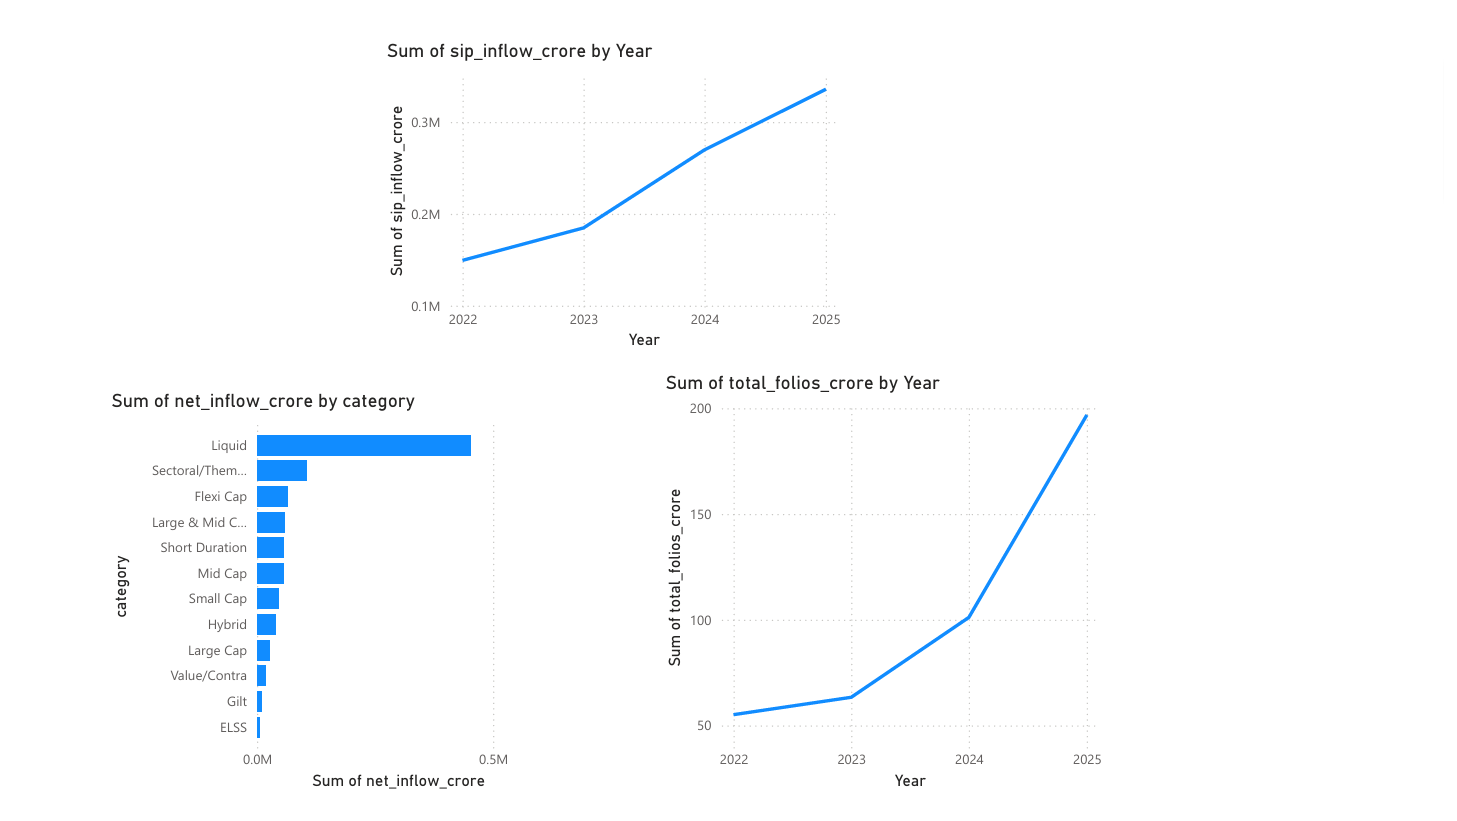

Layout of this report page (visuals, bound fields, positions):
{"tool":"powerbi","page":{"name":"SIP and Market Trends","canvas":[1280,720],"ordinal":3},"visuals":[{"type":"lineChart","fields":{"Category":["04_monthly_sip_inflows.month.Variation.Date Hierarchy.Year","04_monthly_sip_inflows.month.Variation.Date Hierarchy.Quarter","04_monthly_sip_inflows.month.Variation.Date Hierarchy.Month","04_monthly_sip_inflows.month.Variation.Date Hierarchy.Day"],"Y":["Sum(04_monthly_sip_inflows.sip_inflow_crore)"]},"box":[324,16.7,417.9,283.2],"z":0},{"type":"clusteredBarChart","fields":{"Category":["05_category_inflows.category"],"Y":["Sum(05_category_inflows.net_inflow_crore)"]},"box":[75.7,331.6,410.3,364.9],"z":1},{"type":"lineChart","fields":{"Category":["06_industry_folio_count.month.Variation.Date Hierarchy.Year","06_industry_folio_count.month.Variation.Date Hierarchy.Quarter","06_industry_folio_count.month.Variation.Date Hierarchy.Month","06_industry_folio_count.month.Variation.Date Hierarchy.Day"],"Y":["Sum(06_industry_folio_count.total_folios_crore)"]},"box":[575.4,316.5,401.3,380.1],"z":2}]}

Visuals, with their boxes in screenshot pixels (x1, y1, x2, y2), scaled from the page's 1280x720 canvas onto the 1457x821 screenshot:
lineChart - 04_monthly_sip_inflows.month.Variation.Date Hierarchy.Year x 04_monthly_sip_inflows.month.Variation.Date Hierarchy.Quarter: bbox=[369, 19, 844, 342]
clusteredBarChart - 05_category_inflows.category x Sum(05_category_inflows.net_inflow_crore): bbox=[86, 378, 553, 794]
lineChart - 06_industry_folio_count.month.Variation.Date Hierarchy.Year x 06_industry_folio_count.month.Variation.Date Hierarchy.Quarter: bbox=[655, 361, 1112, 794]
